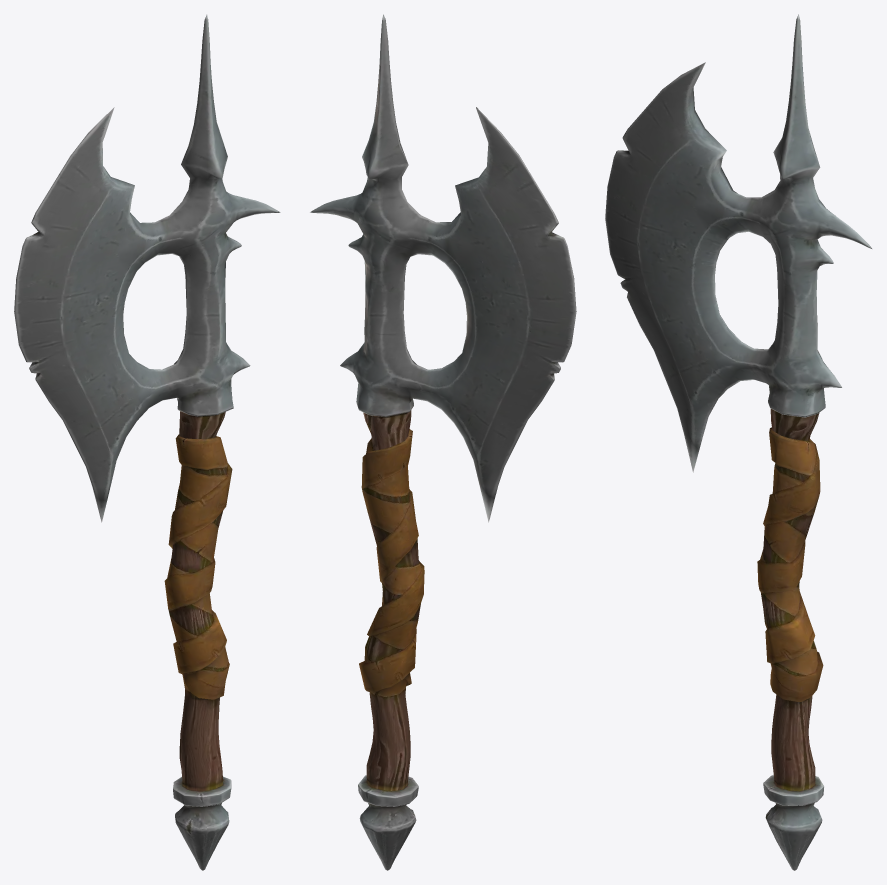
The picture shows the model from 3 angles, left to right: view 1: azimuth 30°, elevation 25°; view 2: azimuth 150°, elevation 25°; view 3: azimuth 330°, elevation 25°; orthographic projection.
Parts seen in each view (by area): view 1: SM_Club_Swingslash_1H_01_LOD0; view 2: SM_Club_Swingslash_1H_01_LOD0; view 3: SM_Club_Swingslash_1H_01_LOD0.
Boxes of the visible parts, box(x1,y1,x2,y2) form: SM_Club_Swingslash_1H_01_LOD0: box(14, 14, 280, 870); SM_Club_Swingslash_1H_01_LOD0: box(310, 14, 576, 870); SM_Club_Swingslash_1H_01_LOD0: box(605, 14, 871, 870).
Size of the model in its own units: 0.3383 by 1.04 by 0.0687.
Materials: 1 (1 with a texture image).
